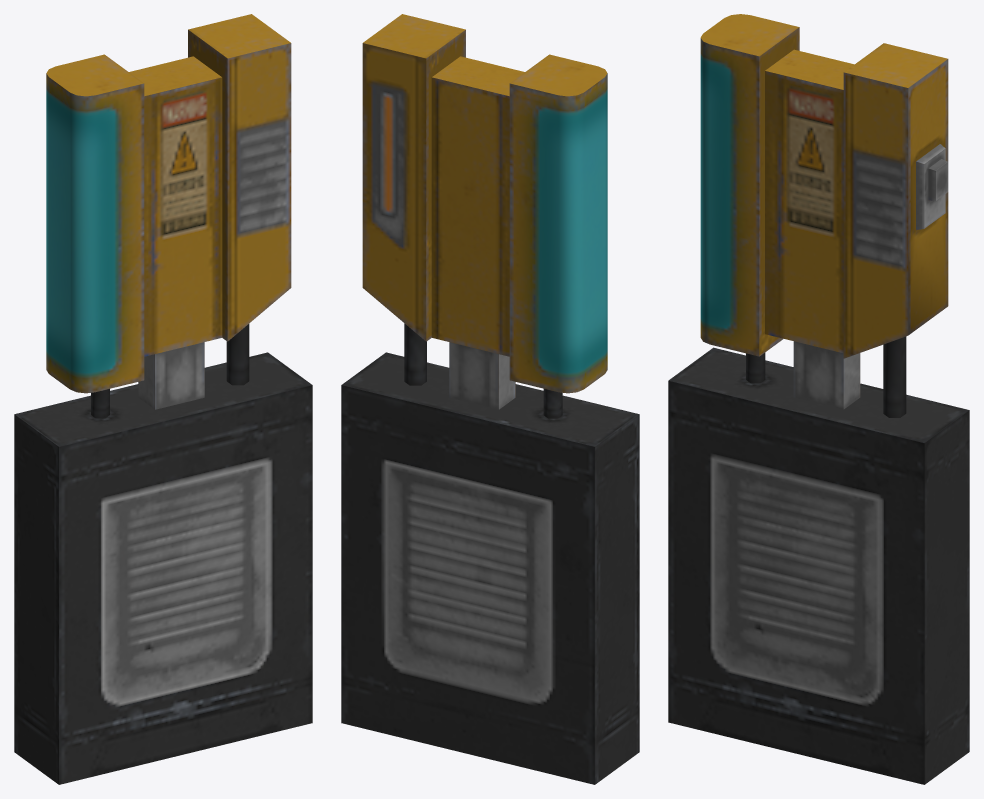
The model's file is CP_Energy_Dispenser_02.fbx.
The picture shows the model from 3 angles, left to right: view 1: azimuth 30°, elevation 25°; view 2: azimuth 150°, elevation 25°; view 3: azimuth 330°, elevation 25°; orthographic projection.
Visible parts, largest first — view 1: CP_Energy_Dispenser_02_LOD0; view 2: CP_Energy_Dispenser_02_LOD0; view 3: CP_Energy_Dispenser_02_LOD0.
Boxes of the visible parts, x1,y1,x2,y2 form: CP_Energy_Dispenser_02_LOD0: [14, 14, 312, 784]; CP_Energy_Dispenser_02_LOD0: [341, 14, 639, 784]; CP_Energy_Dispenser_02_LOD0: [668, 14, 969, 784].
Size of what is drawn, in the model's own units: 41.23 by 106 by 12.59.
